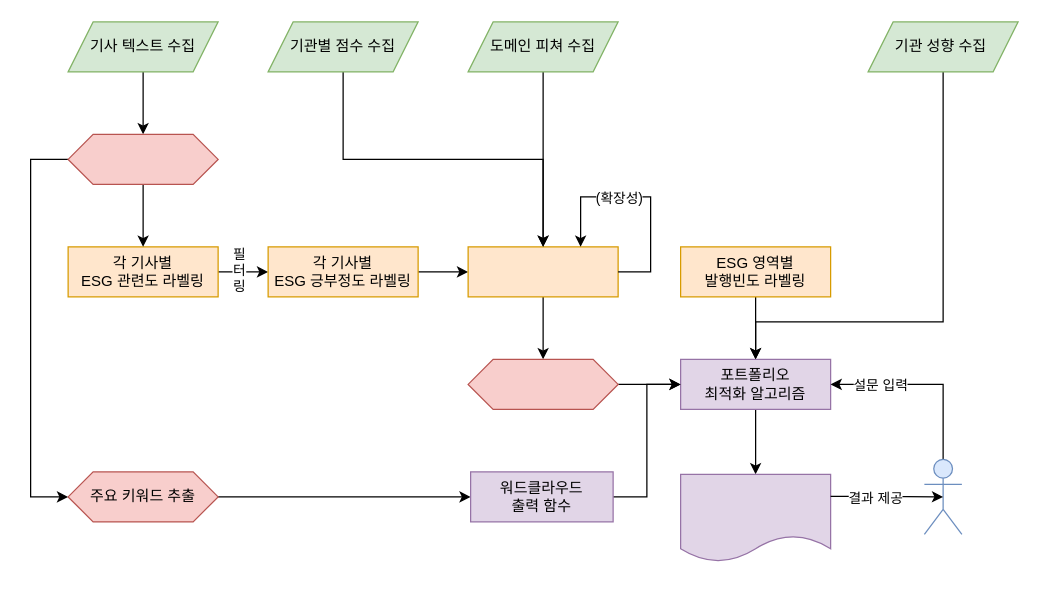
The diagram is 1040 pixels wide and 591 high, and some of its shapes have lost their labels. The shapes that lost their labels are listed below. From the top down, each one's box as (x1, y1, x2, y2) in pixels, then its label:
(67, 133, 218, 184): 텍스트 전처리
(467, 246, 618, 297): 기관 경향성 반영 ESG 스코어 예측
(467, 358, 618, 409): 각 기업/연도별 ESG 스코어 산출
(923, 458, 962, 534): 사용자
(679, 473, 831, 562): UI로 출력
